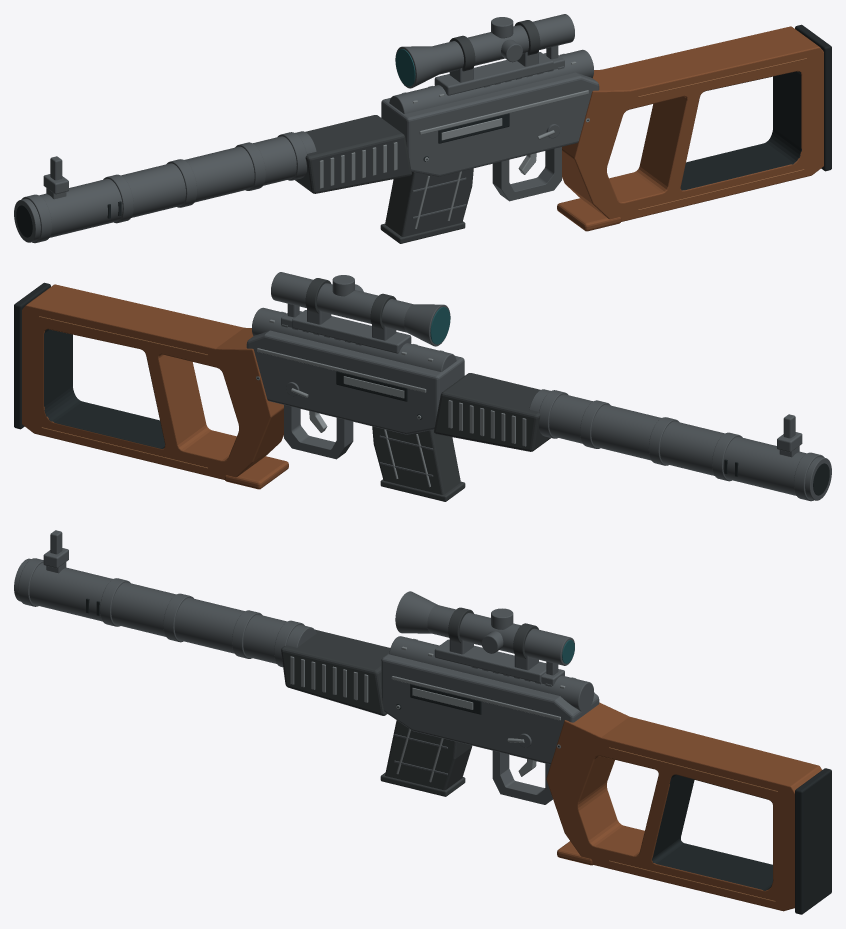
File: vss.glb
3 views of the same model, one above another, from view 1: azimuth 30°, elevation 25°; view 2: azimuth 150°, elevation 25°; view 3: azimuth 330°, elevation 25° (orthographic).
Parts seen in each view (by area): view 1: part_stock_surfaces, part_body_surfaces, part_barrel_surfaces, part_optic_surfaces, part_handguard_surfaces, part_magazine_surfaces, part_grip_surfaces, part_details_surfaces, part_sights_surfaces; view 2: part_stock_surfaces, part_body_surfaces, part_barrel_surfaces, part_optic_surfaces, part_handguard_surfaces, part_magazine_surfaces, part_grip_surfaces, part_details_surfaces, part_sights_surfaces; view 3: part_stock_surfaces, part_body_surfaces, part_barrel_surfaces, part_optic_surfaces, part_handguard_surfaces, part_magazine_surfaces, part_grip_surfaces, part_details_surfaces, part_sights_surfaces.
Boxes of the visible parts, x1,y1,x2,y2 form: part_stock_surfaces: (562,24,831,221); part_body_surfaces: (381,49,599,176); part_barrel_surfaces: (14,131,316,243); part_optic_surfaces: (395,14,574,95); part_handguard_surfaces: (295,115,411,193); part_magazine_surfaces: (380,168,473,243); part_grip_surfaces: (492,147,621,231); part_details_surfaces: (419,90,589,161); part_sights_surfaces: (43,45,564,199); part_stock_surfaces: (14,282,283,479); part_body_surfaces: (246,307,464,434); part_barrel_surfaces: (529,389,831,501); part_optic_surfaces: (271,272,450,353); part_handguard_surfaces: (434,373,550,451); part_magazine_surfaces: (372,426,465,501); part_grip_surfaces: (224,405,353,489); part_details_surfaces: (256,348,426,419); part_sights_surfaces: (281,303,802,457); part_stock_surfaces: (546,702,831,914); part_body_surfaces: (381,636,599,764); part_barrel_surfaces: (14,558,316,667); part_optic_surfaces: (395,591,574,683); part_handguard_surfaces: (281,629,390,715); part_magazine_surfaces: (380,720,472,796); part_grip_surfaces: (492,750,592,865); part_details_surfaces: (391,676,560,748); part_sights_surfaces: (43,530,564,686).
Bounding box in the file's own units: 301 × 78.75 × 20.8.
